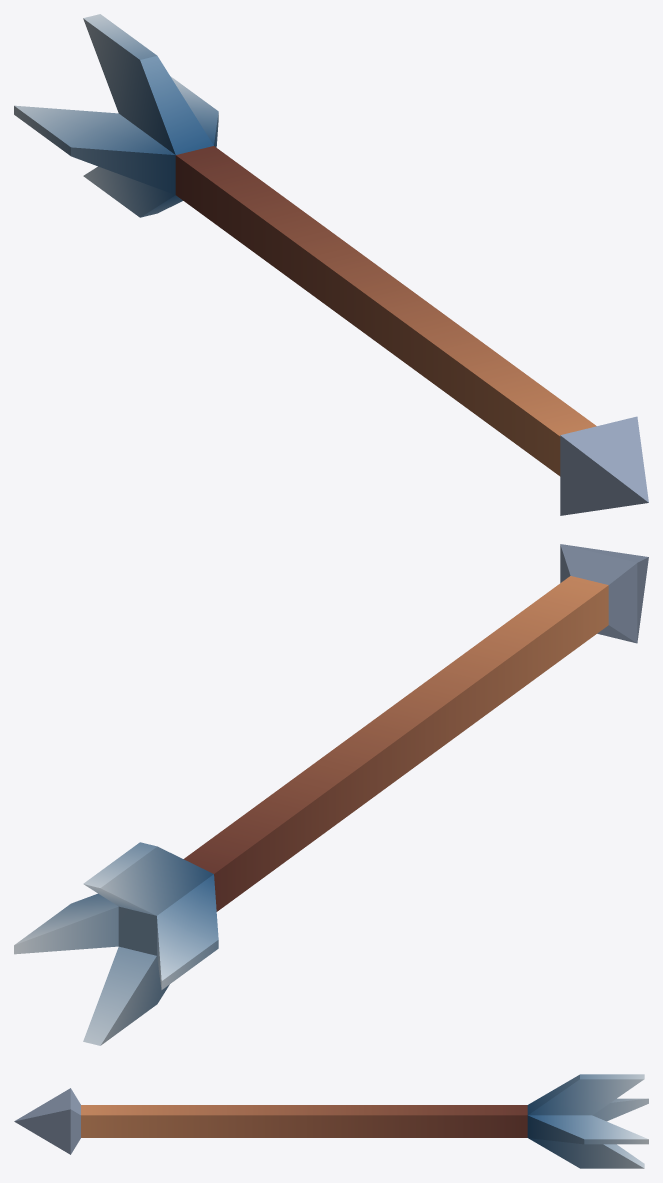
Rendered from arrow.fbx.
The picture shows the model from 3 angles, top to bottom: view 1: azimuth 30°, elevation 25°; view 2: azimuth 150°, elevation 25°; view 3: azimuth 270°, elevation 25°; orthographic projection. The views are drawn at different scales.
Visible parts, largest first — view 1: arrow; view 2: arrow; view 3: arrow.
Boxes of the visible parts, x1,y1,x2,y2 form: arrow: (14, 14, 648, 515); arrow: (14, 544, 648, 1045); arrow: (14, 1074, 648, 1168).
Bounding box in the file's own units: 59.95 × 61.24 × 395.
